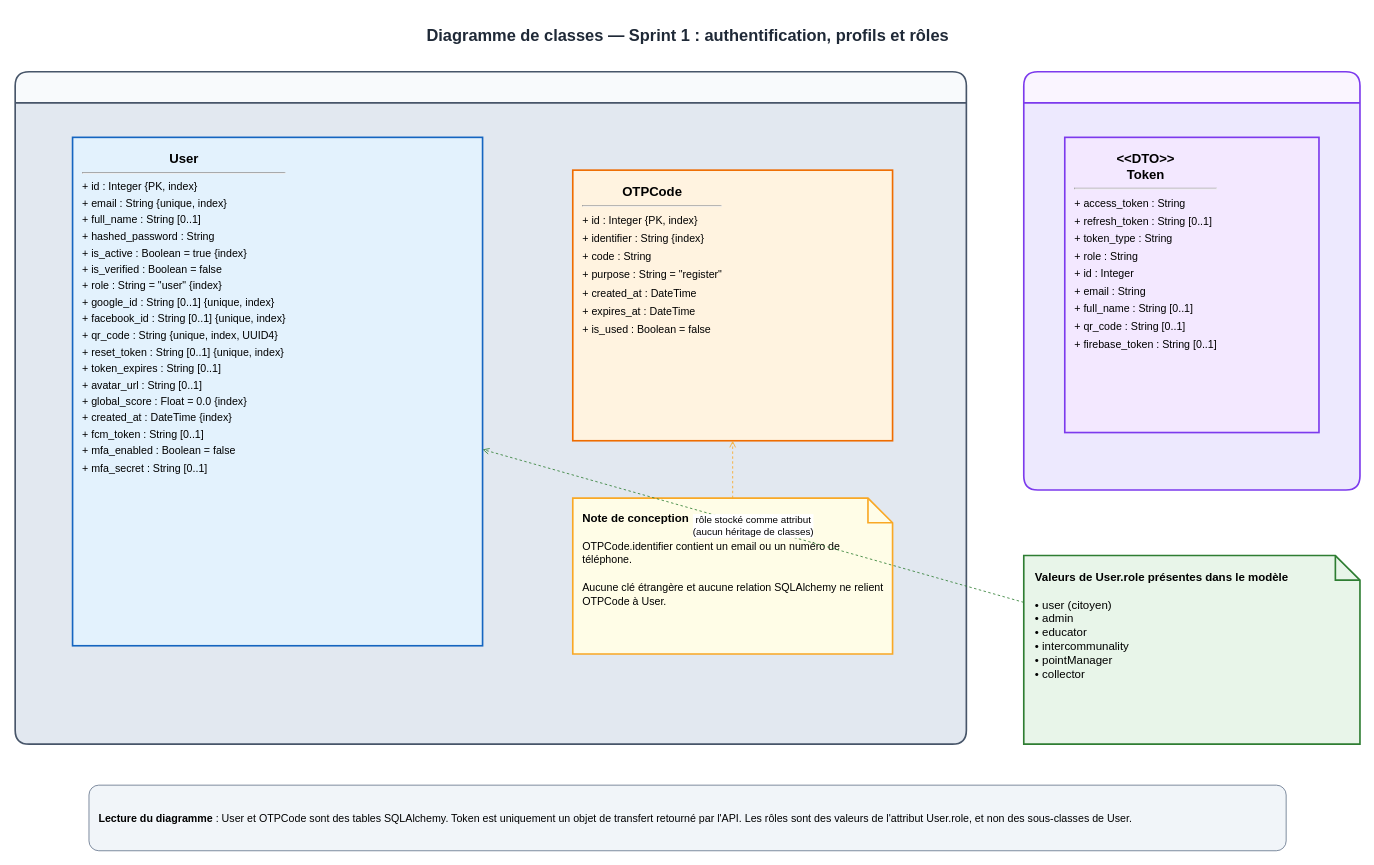
Image size: 1374x865. Some labels were removed from this diagram. Here are the shapes that lost their labels. From the top down, the box of each, then its label:
(1023, 71, 1360, 490): Schéma Pydantic de réponse — non persistant
(14, 71, 967, 745): Modèles SQLAlchemy persistants
